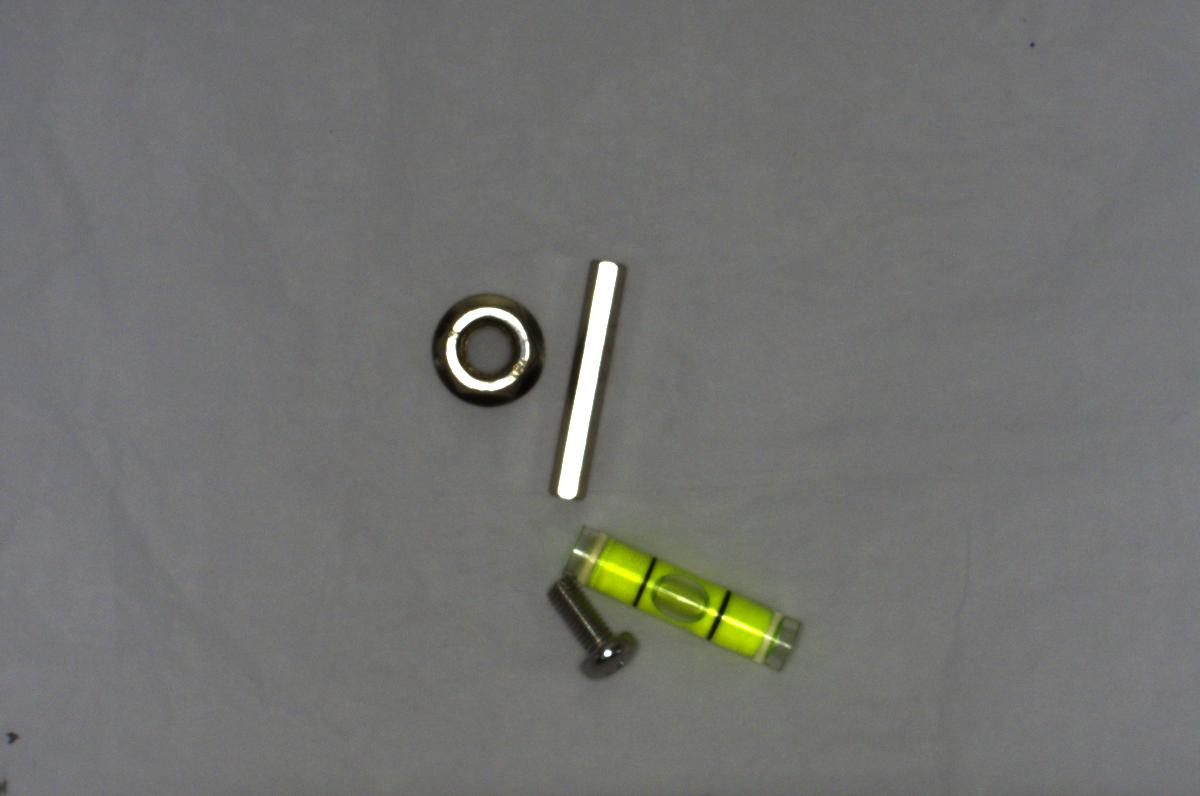Double hexagonal column: (544, 253, 630, 503)
Flange nut: (417, 285, 551, 409)
Horizontal bubble: (555, 521, 807, 669)
Round head screw: (538, 567, 645, 683)
